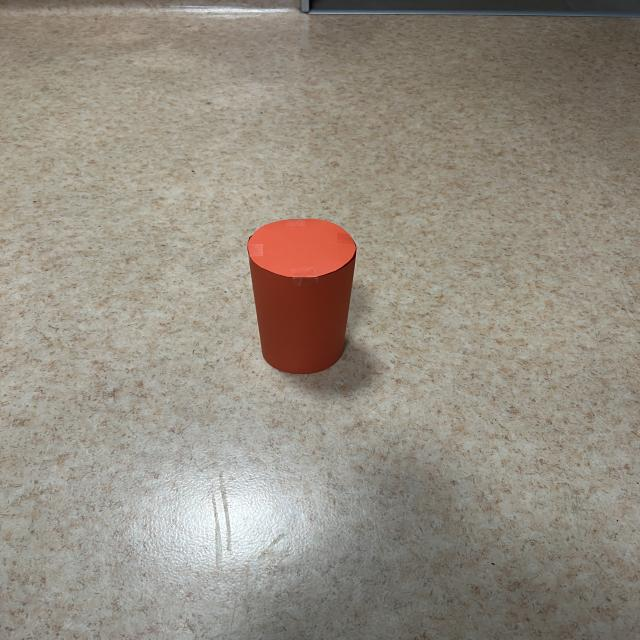przeszkoda: (247, 219, 356, 374)
